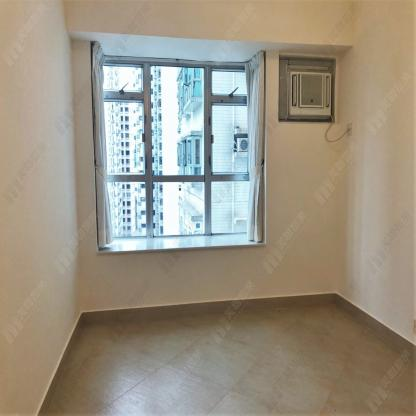AC: (288, 67, 332, 119)
Windowsill: (88, 32, 266, 258)
